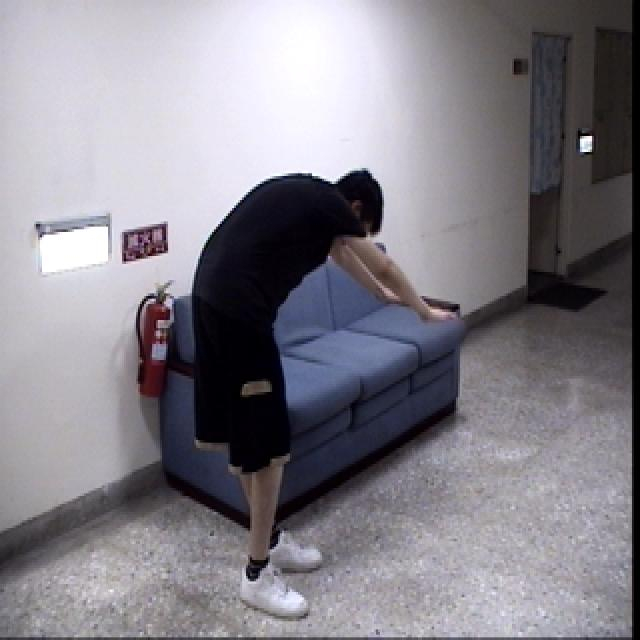bend: (182, 160, 453, 622)
